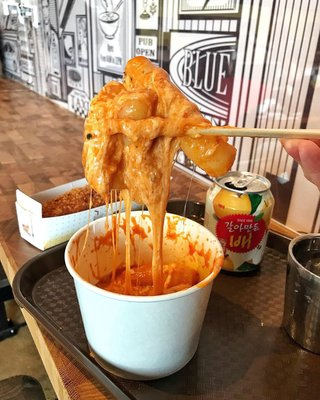pizza: (64, 205, 224, 379), (204, 169, 275, 273), (281, 232, 320, 355)
